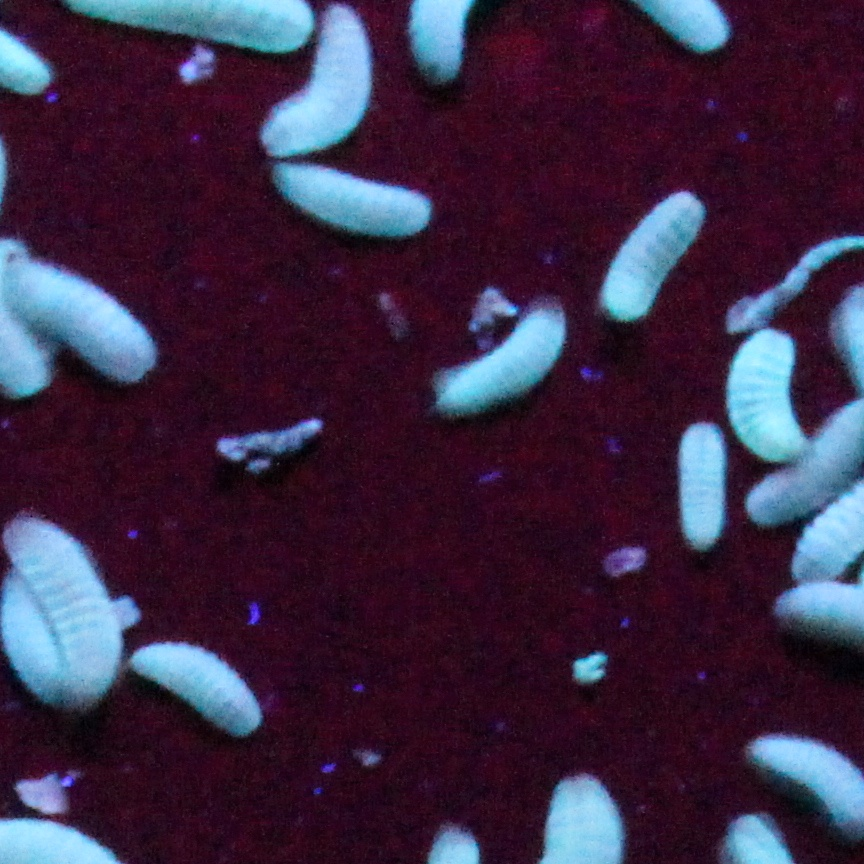larve: (10, 512, 120, 703), (17, 264, 159, 387), (269, 3, 372, 158), (595, 194, 702, 334), (436, 300, 562, 409), (273, 157, 428, 240), (130, 642, 261, 740), (723, 322, 807, 458), (686, 424, 726, 551), (8, 588, 62, 681)
